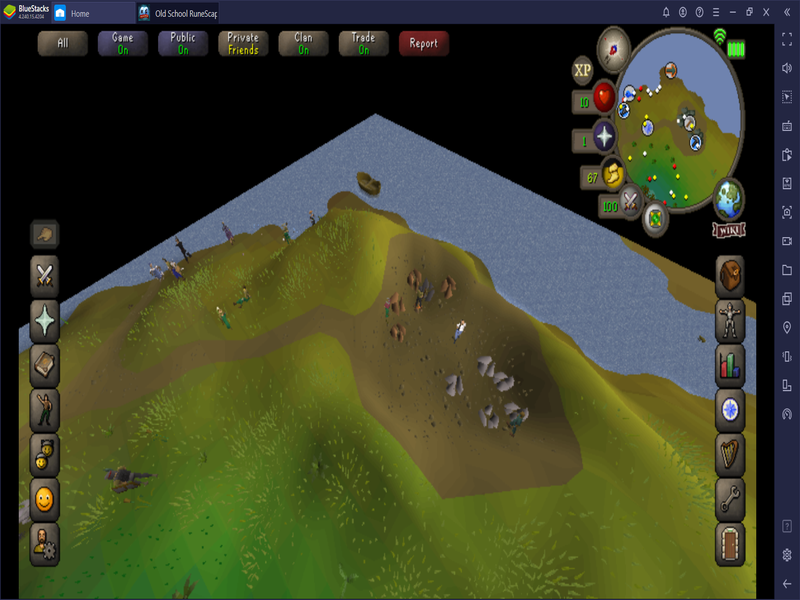copper_rock_1: (388, 321, 409, 345)
copper_rock_2: (387, 292, 408, 316)
